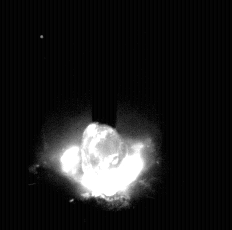arame: (93, 0, 118, 129)
poca: (44, 0, 160, 230)
